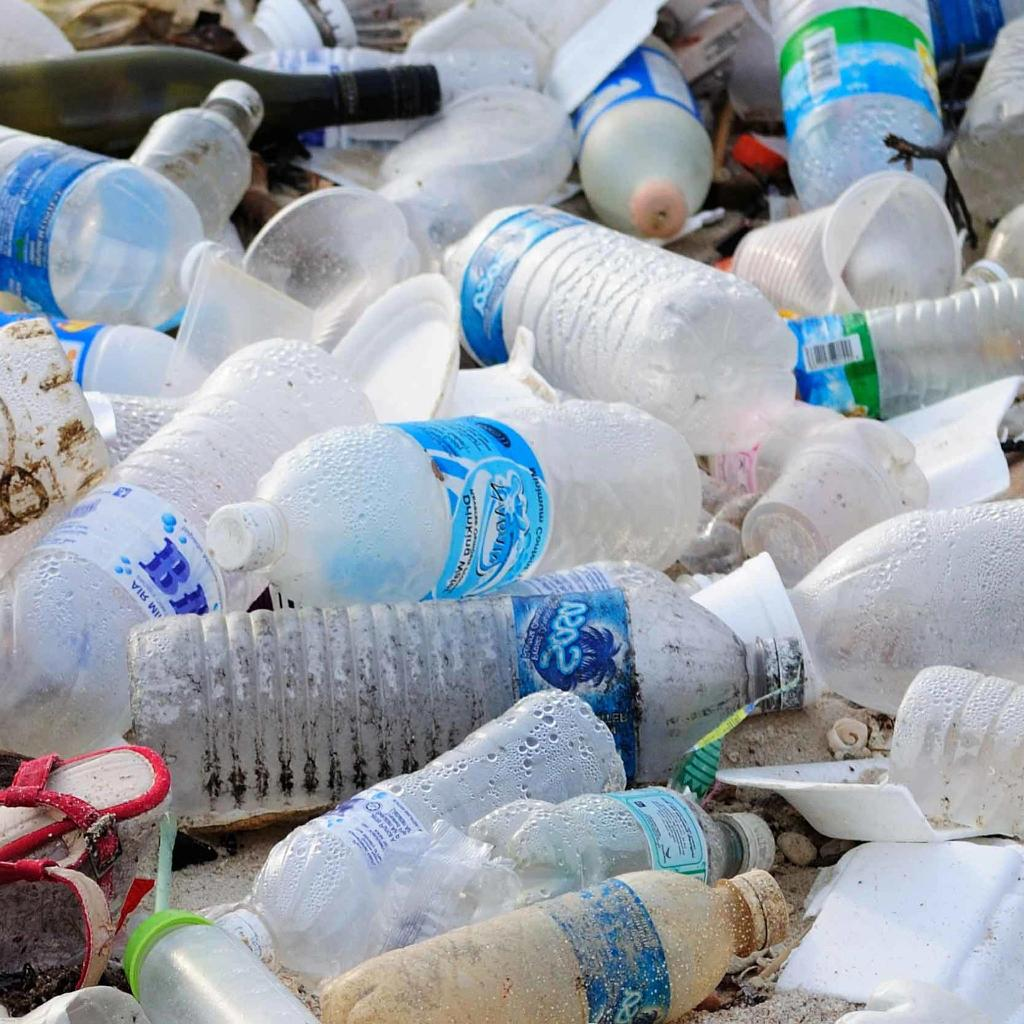garbage: (113, 544, 827, 817), (0, 332, 369, 761), (209, 679, 664, 966), (198, 371, 702, 616), (399, 197, 821, 424), (469, 774, 784, 910), (722, 162, 952, 311)
